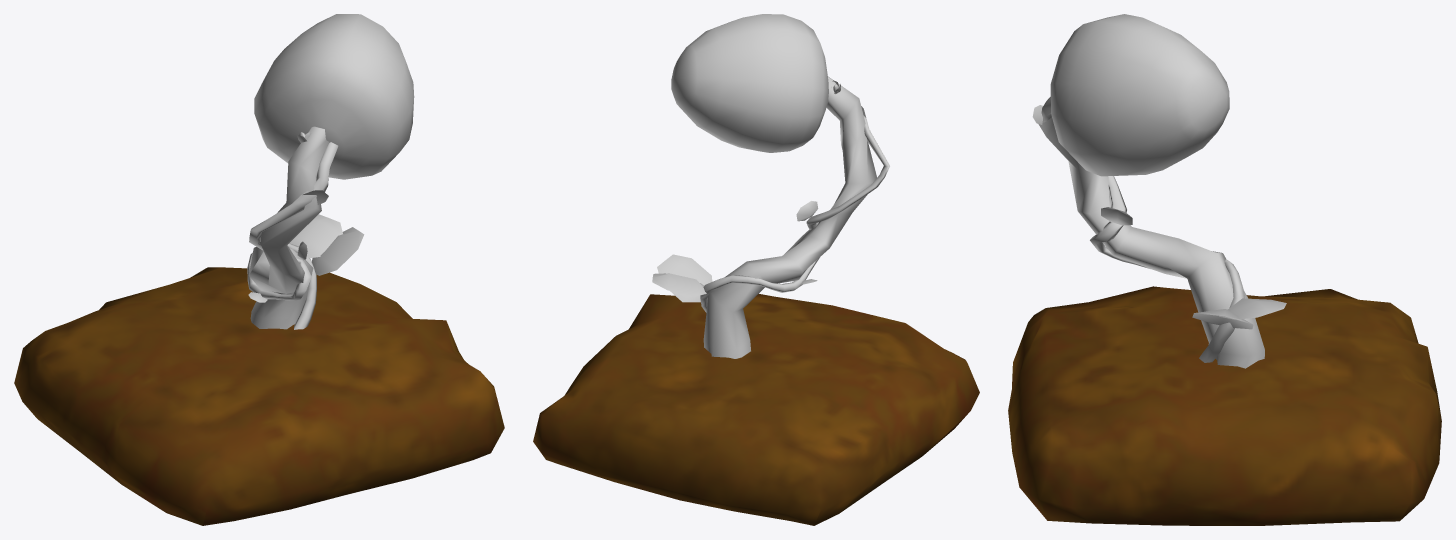
Rendered from hvs_plantables_orange.fbx.
3 renders of one model, left to right at view 1: azimuth 30°, elevation 25°; view 2: azimuth 150°, elevation 25°; view 3: azimuth 270°, elevation 25°, orthographic. The views are drawn at different scales.
Visible parts, largest first — view 1: hvs_plantables_orange; view 2: hvs_plantables_orange; view 3: hvs_plantables_orange.
Boxes of the visible parts, x1=… form: hvs_plantables_orange: x1=14, y1=14, x2=504, y2=525; hvs_plantables_orange: x1=533, y1=14, x2=979, y2=525; hvs_plantables_orange: x1=1008, y1=14, x2=1441, y2=525.
Bounding box in the file's own units: 3.76 × 4.31 × 3.83.
